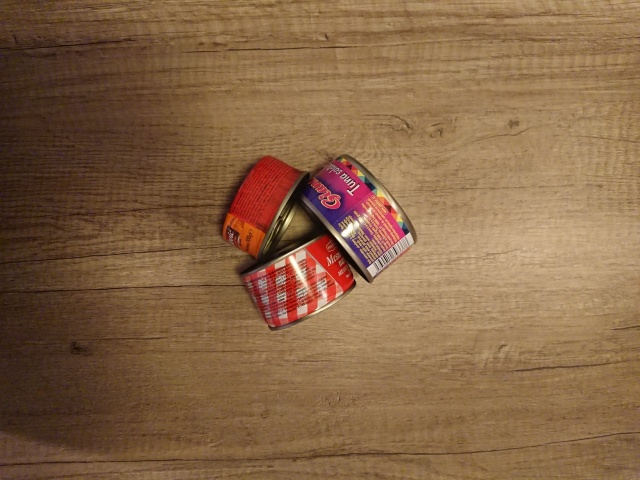Gavrilovic Pork Liver Pate 100g: (219, 153, 313, 264)
Giana Tuna Salad Mexico 185g: (293, 152, 420, 286)
Podravka Luncheon Meat 150g: (236, 227, 359, 334)
